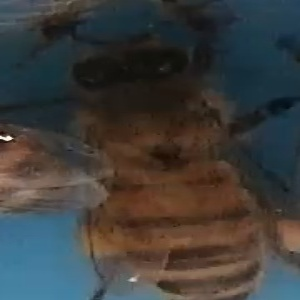bee: (15, 4, 300, 299)
